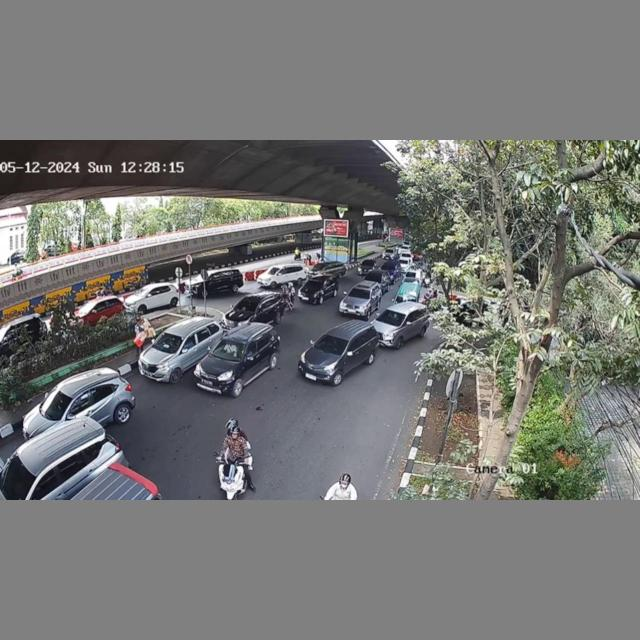windshield: (212, 338, 246, 361), (313, 334, 348, 355), (153, 331, 183, 353)
